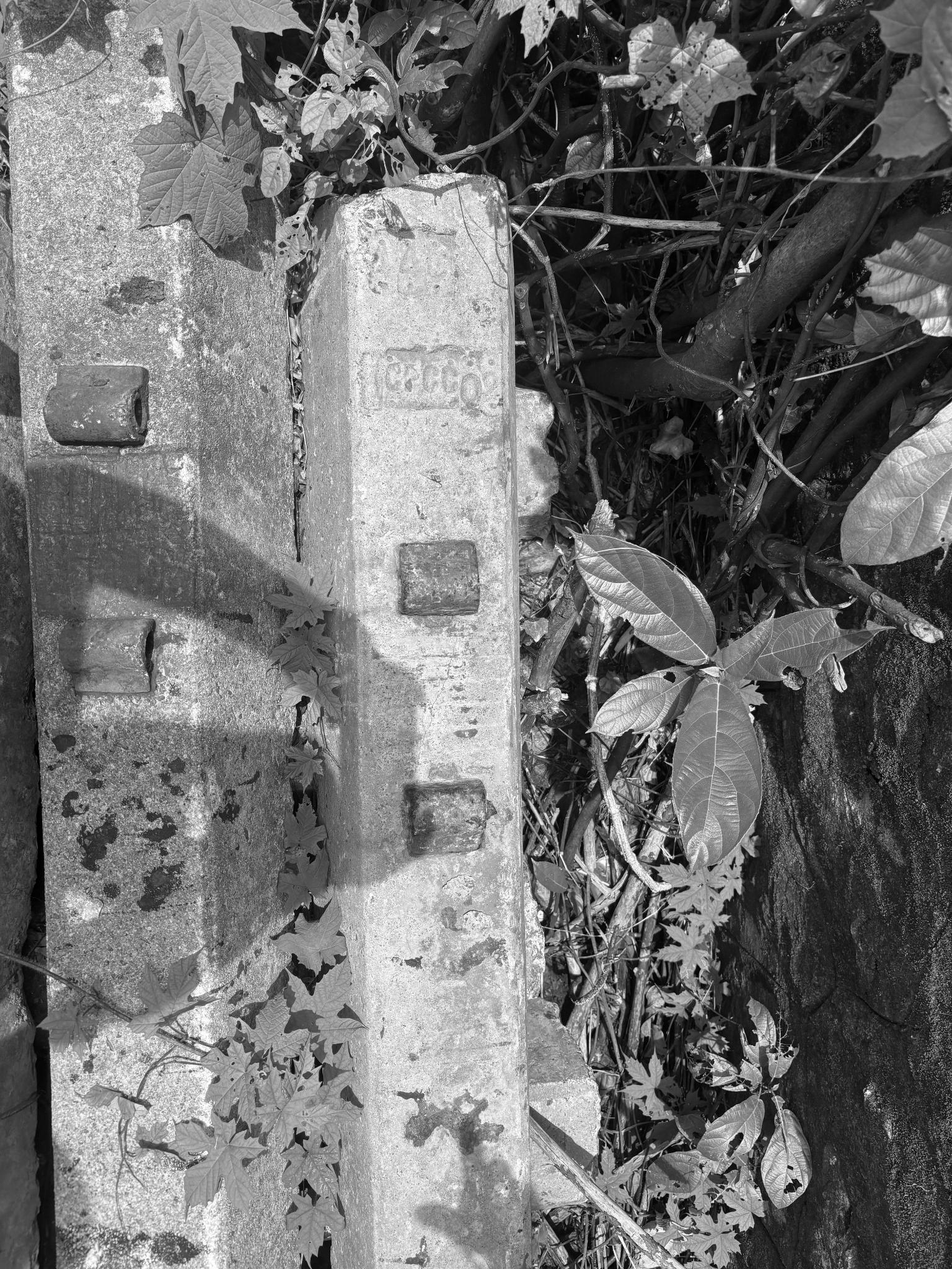cracks under rail seat: (397, 619, 473, 798)
